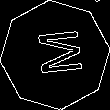M_W: (27, 30, 83, 80)
